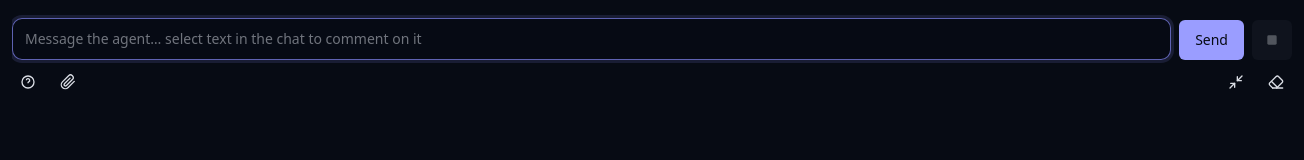
Test: picking a path with whitespace inserts @"path" and updates the draft in the store
The width and height of the screenshot is (1304, 160).
Type "x @a" into the text box at {"x": 592, "y": 39}, box [12,18,1171,60]
Wait 100 ms
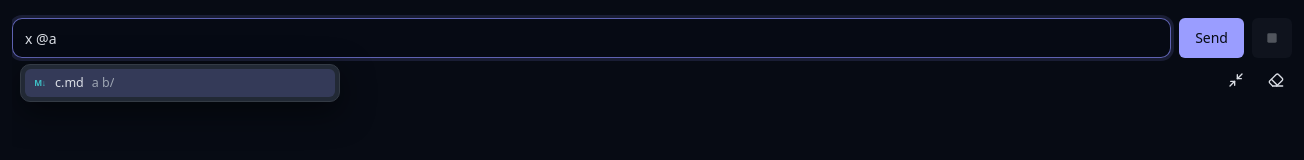
Press Enter in the text box, box [12,18,1171,58]
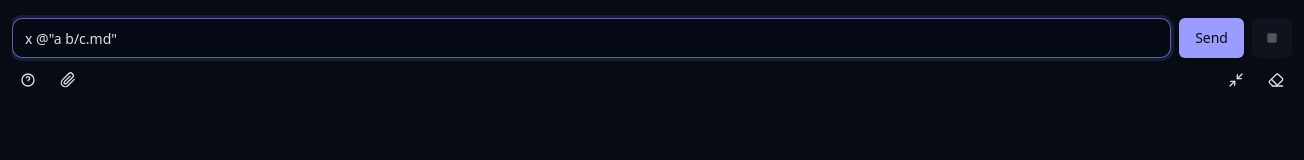
Result: the text box holds "x @\"a b/c.md\" " at [12,18,1171,58]
Result: the list is gone
